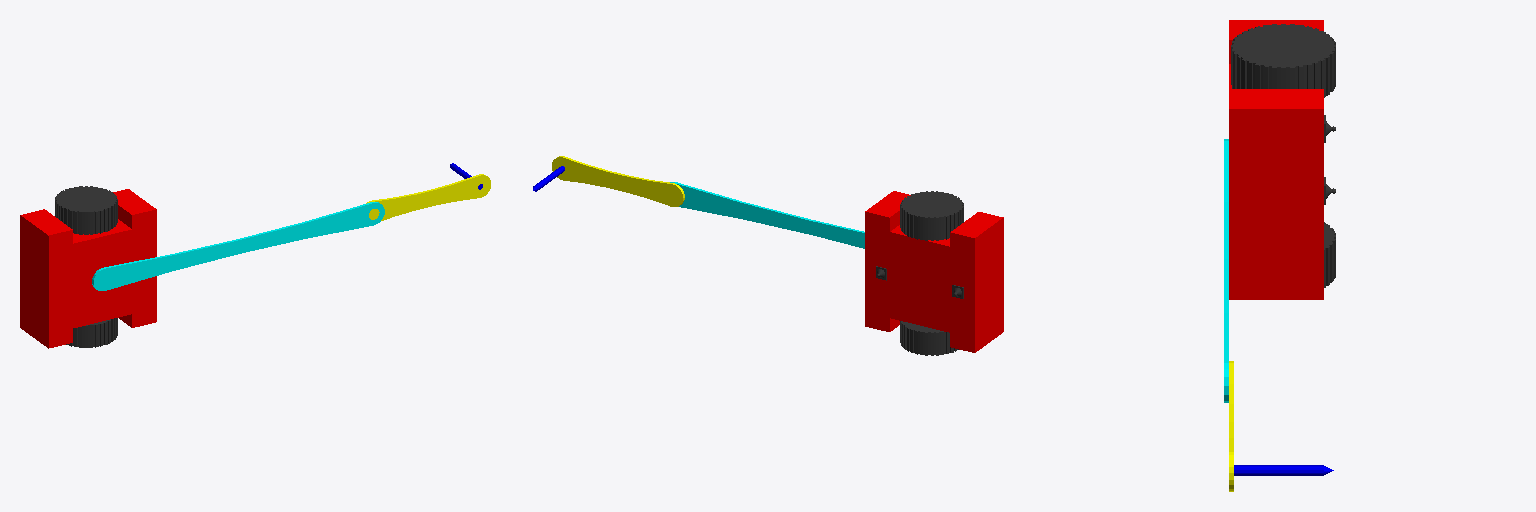
robot.urdf — Mobile Manipulator Robot:
<?xml version="1.0" encoding="utf-8"?>
<!-- This URDF was automatically created by SolidWorks to URDF Exporter! Originally created by [author] ([email redacted]) 
     Commit Version: 1.6.0-4-g7f85cfe  Build Version: 1.6.7995.38578
     For more information, please see http://wiki.ros.org/sw_urdf_exporter -->
<robot
  name="Mobile Manipulator Robot">
  <link
    name="Mobile_Base">
    <inertial>
      <origin
        xyz="-6.97391474819404E-18 -0.224989222646701 1.37375505420621E-17"
        rpy="0 0 0" />
      <mass
        value="389.392145867644" />
      <inertia
        ixx="32.4757754116668"
        ixy="6.09571601276593E-17"
        ixz="-4.43542421848178E-16"
        iyy="61.8336865920494"
        iyz="-2.119974048337E-15"
        izz="42.4014331686187" />
    </inertial>
    <visual>
      <origin
        xyz="0 0 0"
        rpy="0 0 0" />
      <geometry>
        <mesh
          filename="package://Mobile Manipulator Robot/meshes/Mobile_Base.STL" />
      </geometry>
      <material
        name="">
        <color
          rgba="1 0 0 1" />
      </material>
    </visual>
    <collision>
      <origin
        xyz="0 0 0"
        rpy="0 0 0" />
      <geometry>
        <mesh
          filename="package://Mobile Manipulator Robot/meshes/Mobile_Base.STL" />
      </geometry>
    </collision>
  </link>
  <link
    name="Left_Wheel">
    <inertial>
      <origin
        xyz="0.101054925558571 -5.58616460550371E-18 -5.55111512312578E-17"
        rpy="0 0 0" />
      <mass
        value="37.2252884109526" />
      <inertia
        ixx="1.15060342056414"
        ixy="-1.80206563927507E-18"
        ixz="8.19785431691663E-18"
        iyy="0.699344578155435"
        iyz="1.95585201476938E-16"
        izz="0.699344578155434" />
    </inertial>
    <visual>
      <origin
        xyz="0 0 0"
        rpy="0 0 0" />
      <geometry>
        <mesh
          filename="package://Mobile Manipulator Robot/meshes/Left_Wheel.STL" />
      </geometry>
      <material
        name="">
        <color
          rgba="0.250980392156863 0.250980392156863 0.250980392156863 1" />
      </material>
    </visual>
    <collision>
      <origin
        xyz="0 0 0"
        rpy="0 0 0" />
      <geometry>
        <mesh
          filename="package://Mobile Manipulator Robot/meshes/Left_Wheel.STL" />
      </geometry>
    </collision>
  </link>
  <joint
    name="Left_Wheel"
    type="continuous">
    <origin
      xyz="0 -0.19 0.4"
      rpy="1.5707963267949 -1.5707963267949 0" />
    <parent
      link="Mobile_Base" />
    <child
      link="Left_Wheel" />
    <axis
      xyz="1 0 0" />
  </joint>
  <link
    name="Right_Wheel">
    <inertial>
      <origin
        xyz="0.101054925558571 3.50055370159164E-16 -2.77555756156289E-17"
        rpy="0 0 0" />
      <mass
        value="37.2252884109526" />
      <inertia
        ixx="1.15060342056414"
        ixy="1.5769963060077E-15"
        ixz="-8.12324233204896E-18"
        iyy="0.699344578155435"
        iyz="1.90053017540184E-16"
        izz="0.699344578155434" />
    </inertial>
    <visual>
      <origin
        xyz="0 0 0"
        rpy="0 0 0" />
      <geometry>
        <mesh
          filename="package://Mobile Manipulator Robot/meshes/Right_Wheel.STL" />
      </geometry>
      <material
        name="">
        <color
          rgba="0.250980392156863 0.250980392156863 0.250980392156863 1" />
      </material>
    </visual>
    <collision>
      <origin
        xyz="0 0 0"
        rpy="0 0 0" />
      <geometry>
        <mesh
          filename="package://Mobile Manipulator Robot/meshes/Right_Wheel.STL" />
      </geometry>
    </collision>
  </link>
  <joint
    name="Right_Wheel"
    type="continuous">
    <origin
      xyz="0 -0.19 -0.4"
      rpy="1.5707963267949 1.5707963267949 0" />
    <parent
      link="Mobile_Base" />
    <child
      link="Right_Wheel" />
    <axis
      xyz="1 0 0" />
  </joint>
  <link
    name="Proximal_Link">
    <inertial>
      <origin
        xyz="1.20104170376266 1.45382314335634E-13 0.0120104170376265"
        rpy="0 0 0" />
      <mass
        value="10.0263671297658" />
      <inertia
        ixx="0.0207386316690575"
        ixy="-7.02605432165205E-14"
        ixz="-0.00589559967686835"
        iyy="6.78083329533579"
        iyz="-4.08250625099012E-16"
        izz="6.8002868833056" />
    </inertial>
    <visual>
      <origin
        xyz="0 0 0"
        rpy="0 0 0" />
      <geometry>
        <mesh
          filename="package://Mobile Manipulator Robot/meshes/Proximal_Link.STL" />
      </geometry>
      <material
        name="">
        <color
          rgba="0 1 1 1" />
      </material>
    </visual>
    <collision>
      <origin
        xyz="0 0 0"
        rpy="0 0 0" />
      <geometry>
        <mesh
          filename="package://Mobile Manipulator Robot/meshes/Proximal_Link.STL" />
      </geometry>
    </collision>
  </link>
  <joint
    name="Proximal_Link_Joint"
    type="continuous">
    <origin
      xyz="0 -0.45 0"
      rpy="1.5707963267949 0 0" />
    <parent
      link="Mobile_Base" />
    <child
      link="Proximal_Link" />
    <axis
      xyz="0 0 1" />
  </joint>
  <link
    name="Distal_Link">
    <inertial>
      <origin
        xyz="0.474884012233657 -3.25648816660227E-16 0.0135046395106537"
        rpy="0 0 0" />
      <mass
        value="4.88606954950425" />
      <inertia
        ixx="0.0110436552930567"
        ixy="4.82724614818732E-14"
        ixz="0.00233108144396956"
        iyy="0.630157043467138"
        iyz="-2.26631039976967E-17"
        izz="0.640456159281391" />
    </inertial>
    <visual>
      <origin
        xyz="0 0 0"
        rpy="0 0 0" />
      <geometry>
        <mesh
          filename="package://Mobile Manipulator Robot/meshes/Distal_Link.STL" />
      </geometry>
      <material
        name="">
        <color
          rgba="1 1 0 1" />
      </material>
    </visual>
    <collision>
      <origin
        xyz="0 0 0"
        rpy="0 0 0" />
      <geometry>
        <mesh
          filename="package://Mobile Manipulator Robot/meshes/Distal_Link.STL" />
      </geometry>
    </collision>
  </link>
  <joint
    name="Distal_Link_Joint"
    type="continuous">
    <origin
      xyz="2.5 0 -0.0249999999999996"
      rpy="0 0 0" />
    <parent
      link="Proximal_Link" />
    <child
      link="Distal_Link" />
    <axis
      xyz="0 0 -1" />
  </joint>
  <link
    name="Pen">
    <inertial>
      <origin
        xyz="-4.44089209850063E-16 -3.81454348360146E-17 -0.233482142857143"
        rpy="0 0 0" />
      <mass
        value="0.916297857297023" />
      <inertia
        ixx="0.0168344530165384"
        ixy="-1.05879118406787E-20"
        ixz="-2.22099145379937E-19"
        iyy="0.0168344530165384"
        iyz="5.08354191049358E-18"
        izz="0.000282252464970958" />
    </inertial>
    <visual>
      <origin
        xyz="0 0 0"
        rpy="0 0 0" />
      <geometry>
        <mesh
          filename="package://Mobile Manipulator Robot/meshes/Pen.STL" />
      </geometry>
      <material
        name="">
        <color
          rgba="0 0 1 1" />
      </material>
    </visual>
    <collision>
      <origin
        xyz="0 0 0"
        rpy="0 0 0" />
      <geometry>
        <mesh
          filename="package://Mobile Manipulator Robot/meshes/Pen.STL" />
      </geometry>
    </collision>
  </link>
  <joint
    name="Pen"
    type="fixed">
    <origin
      xyz="0.999999999999999 0 0.0249999999999996"
      rpy="0 0 0" />
    <parent
      link="Distal_Link" />
    <child
      link="Pen" />
    <axis
      xyz="0 0 0" />
  </joint>
  <link
    name="Front_Support">
    <inertial>
      <origin
        xyz="-2.77555756156289E-16 -6.35003179048233E-17 -0.0224501330709969"
        rpy="0 0 0" />
      <mass
        value="0.419720208644154" />
      <inertia
        ixx="0.000403252529175268"
        ixy="-2.04565792547015E-20"
        ixz="1.50841124694842E-18"
        iyy="0.000403252529175268"
        iyz="-6.69991697038779E-21"
        izz="0.000613969677091575" />
    </inertial>
    <visual>
      <origin
        xyz="0 0 0"
        rpy="0 0 0" />
      <geometry>
        <mesh
          filename="package://Mobile Manipulator Robot/meshes/Front_Support.STL" />
      </geometry>
      <material
        name="">
        <color
          rgba="0.250980392156863 0.250980392156863 0.250980392156863 1" />
      </material>
    </visual>
    <collision>
      <origin
        xyz="0 0 0"
        rpy="0 0 0" />
      <geometry>
        <mesh
          filename="package://Mobile Manipulator Robot/meshes/Front_Support.STL" />
      </geometry>
    </collision>
  </link>
  <joint
    name="Front_Support"
    type="fixed">
    <origin
      xyz="0.35 -0.0249999999999976 0"
      rpy="1.5707963267949 0 0" />
    <parent
      link="Mobile_Base" />
    <child
      link="Front_Support" />
    <axis
      xyz="0 0 0" />
  </joint>
  <link
    name="Rear_Support">
    <inertial>
      <origin
        xyz="-1.11022302462516E-16 3.36441967498779E-17 -0.0224501330709969"
        rpy="0 0 0" />
      <mass
        value="0.419720208644154" />
      <inertia
        ixx="0.000403252529175268"
        ixy="-2.04565792547015E-20"
        ixz="1.50841124694842E-18"
        iyy="0.000403252529175268"
        iyz="-6.69991697038779E-21"
        izz="0.000613969677091575" />
    </inertial>
    <visual>
      <origin
        xyz="0 0 0"
        rpy="0 0 0" />
      <geometry>
        <mesh
          filename="package://Mobile Manipulator Robot/meshes/Rear_Support.STL" />
      </geometry>
      <material
        name="">
        <color
          rgba="0.250980392156863 0.250980392156863 0.250980392156863 1" />
      </material>
    </visual>
    <collision>
      <origin
        xyz="0 0 0"
        rpy="0 0 0" />
      <geometry>
        <mesh
          filename="package://Mobile Manipulator Robot/meshes/Rear_Support.STL" />
      </geometry>
    </collision>
  </link>
  <joint
    name="Rear_Support"
    type="fixed">
    <origin
      xyz="-0.35 -0.0250000000000024 0"
      rpy="1.5707963267949 0 0" />
    <parent
      link="Mobile_Base" />
    <child
      link="Rear_Support" />
    <axis
      xyz="0 0 0" />
  </joint>
</robot>

--- What the picture shows (computed from the rendered views, not written in the file) ---
3 views of the same robot in one strip: view 1: azimuth 30°, elevation 25°; view 2: azimuth 150°, elevation 25°; view 3: azimuth 270°, elevation 25° (orthographic).
Model Mobile Manipulator Robot with 8 links and 7 joints (4 continuous, 3 fixed), rooted at Mobile_Base, posed every joint at zero.
Visible links, largest first — view 1: Mobile_Base, Proximal_Link, Left_Wheel, Distal_Link, Right_Wheel; view 2: Mobile_Base, Proximal_Link, Left_Wheel, Distal_Link, Right_Wheel; view 3: Mobile_Base, Left_Wheel, Proximal_Link, Pen, Right_Wheel, Distal_Link.
Link boxes in pixels (x1,y1,x2,y2): Mobile_Base: [20, 189, 156, 348]; Proximal_Link: [92, 202, 384, 290]; Left_Wheel: [55, 186, 117, 234]; Distal_Link: [366, 174, 490, 220]; Right_Wheel: [66, 318, 117, 347]; Mobile_Base: [865, 191, 1003, 352]; Proximal_Link: [670, 182, 864, 248]; Left_Wheel: [900, 191, 963, 240]; Distal_Link: [552, 156, 684, 206]; Right_Wheel: [900, 321, 958, 355]; Mobile_Base: [1229, 20, 1323, 299]; Left_Wheel: [1231, 24, 1335, 97]; Proximal_Link: [1224, 139, 1228, 402]; Pen: [1234, 465, 1333, 475]; Right_Wheel: [1324, 222, 1335, 287]; Distal_Link: [1229, 361, 1233, 491].
Bounding box of the posed robot: 4.1 × 0.535 × 1.2 m (x, y, z).
Meshes: 8 distinct files referenced, 8 mesh visuals loaded (8 binary STL).